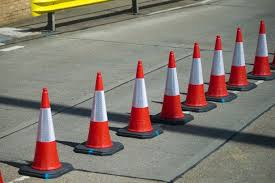cones: (21, 86, 73, 178), (115, 60, 166, 143), (74, 74, 123, 157), (154, 50, 193, 126), (182, 41, 217, 116), (201, 33, 236, 106), (228, 27, 256, 95), (251, 19, 275, 86)
